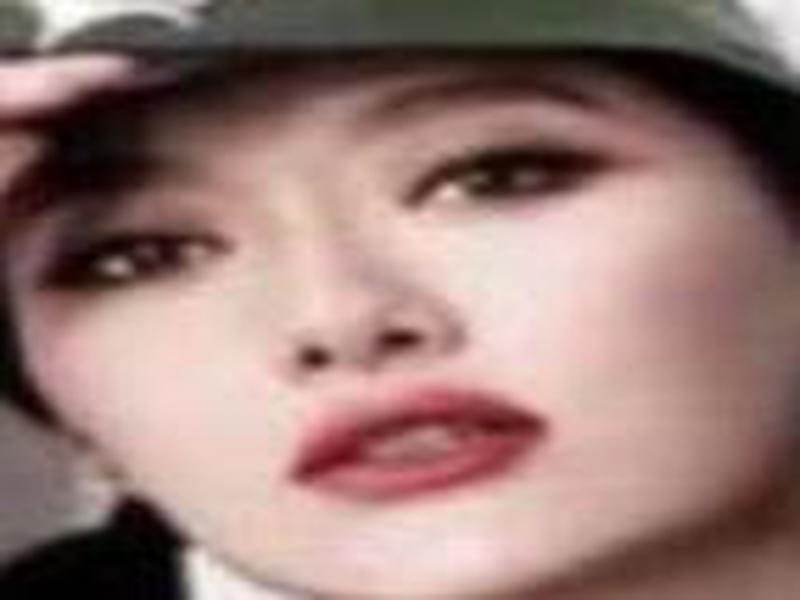without_mask: (11, 49, 798, 600)
